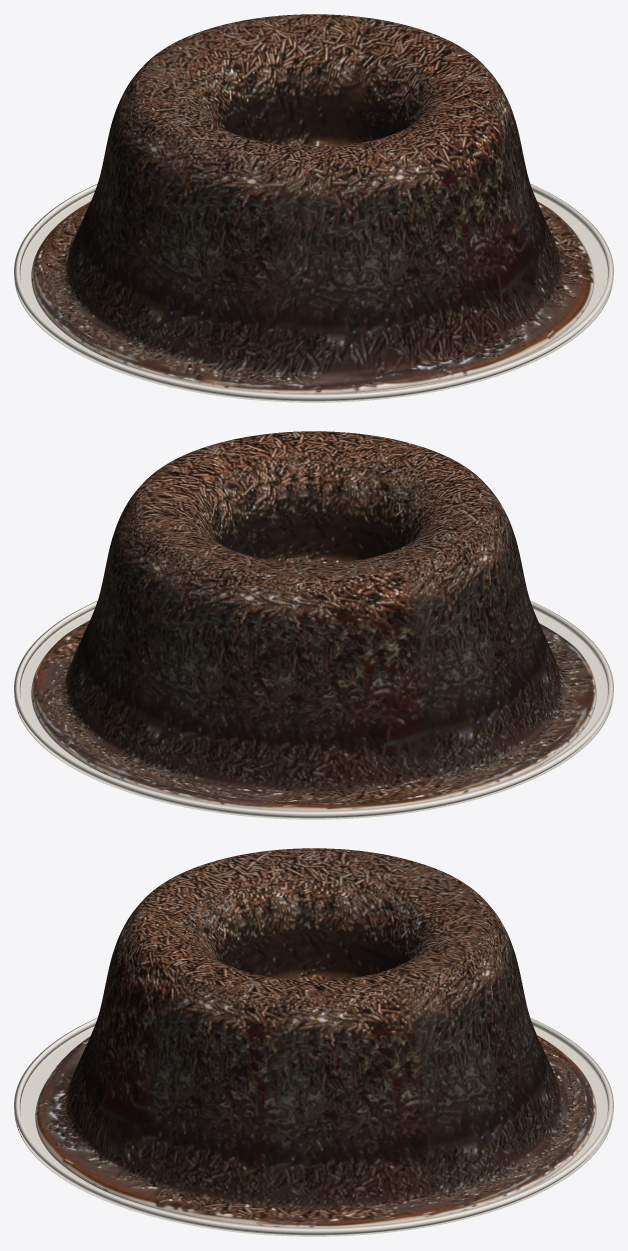
Rendered from cake.glb.
3 views of the same model, one above another, from view 1: azimuth 30°, elevation 25°; view 2: azimuth 150°, elevation 25°; view 3: azimuth 270°, elevation 25° (orthographic).
Visible parts, largest first — view 1: Cake, Plate; view 2: Cake, Plate; view 3: Cake, Plate.
Boxes of the visible parts, bbox=[...] form: Cake: bbox=[31, 14, 594, 393]; Plate: bbox=[14, 184, 613, 402]; Cake: bbox=[31, 431, 596, 810]; Plate: bbox=[14, 601, 613, 819]; Cake: bbox=[35, 848, 596, 1227]; Plate: bbox=[14, 1018, 613, 1236].
Size of the model in its own units: 0.3156 by 0.1221 by 0.3156.
Materials: 2 (1 with a texture image).
